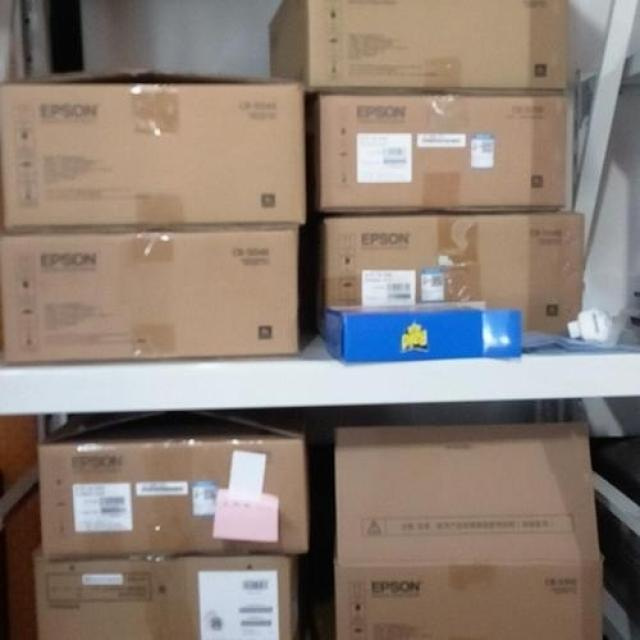box: (336, 422, 605, 639), (0, 66, 307, 229), (0, 226, 304, 365), (37, 414, 309, 559), (309, 213, 585, 340), (314, 98, 567, 216), (268, 2, 567, 97), (31, 539, 300, 639)
